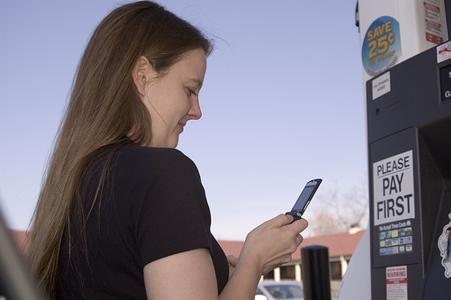person: (27, 3, 309, 300)
